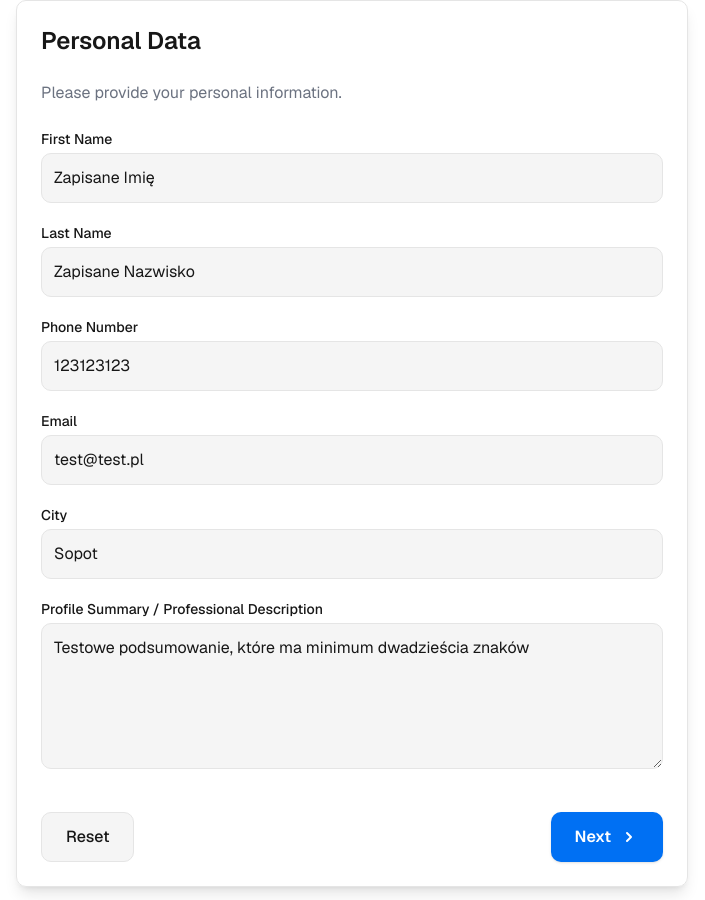
Test: UserForm Component › Akcje użytkownika › powinien zresetować formularz do domyślnych wartości po kliknięciu 'Reset'
Expected: the field labelled "City" holds "Sopot", [41,529,663,579]
Click the button "Reset" at (88, 837), box [41,812,134,862]
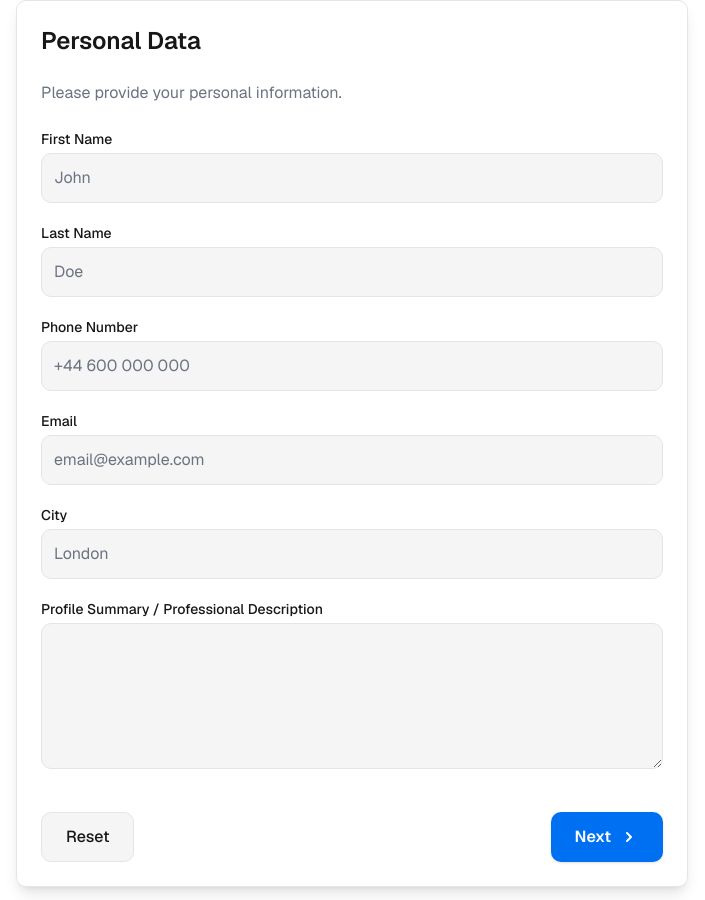
Expected: the field labelled "City" is empty, [41,529,663,579]
Expected: the field labelled "First Name" is empty, [41,153,663,203]
Expected: the field labelled "Phone Number" is empty, [41,341,663,391]
